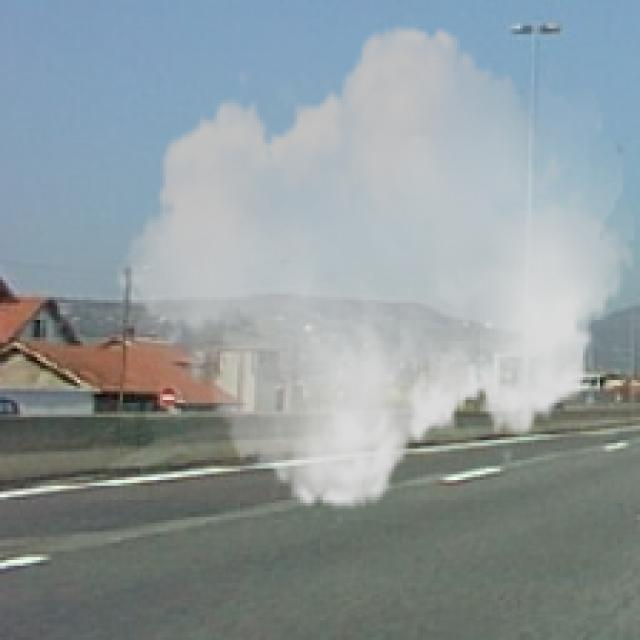smoke: (115, 6, 634, 528)
